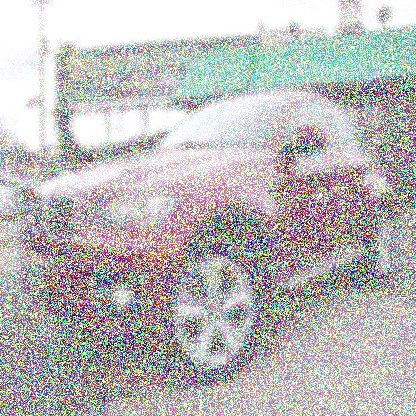Vehicle: (18, 87, 400, 383)
